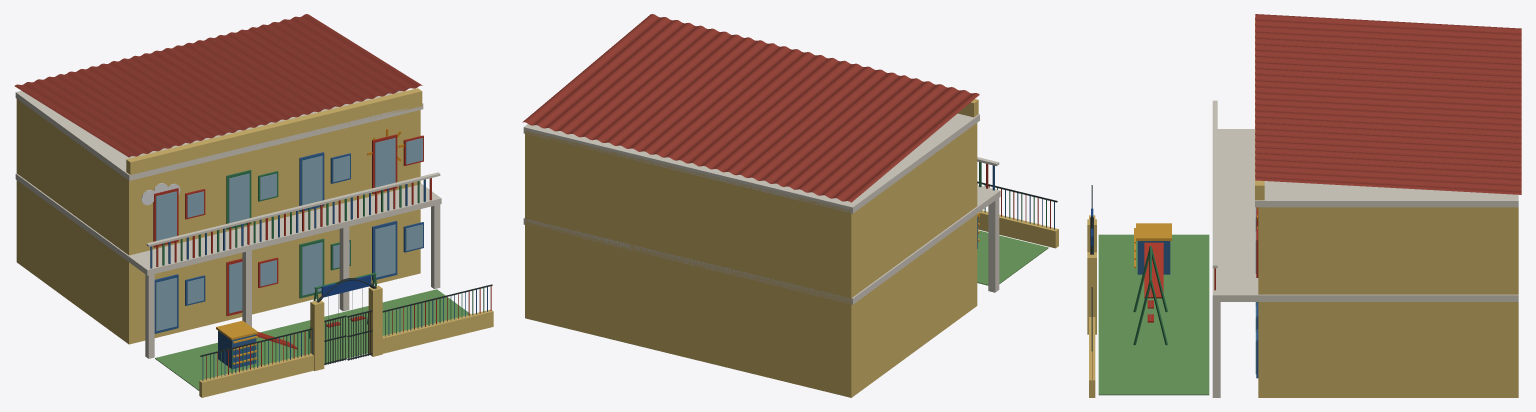
Rendered from mau_giao.glb.
3 renders of one model, left to right at view 1: azimuth 30°, elevation 25°; view 2: azimuth 150°, elevation 25°; view 3: azimuth 270°, elevation 25°, orthographic. The views are drawn at different scales.
Visible parts, largest first — view 1: mau_giao; view 2: mau_giao; view 3: mau_giao.
Part boxes in pixels (x1,y1,x2,y2): mau_giao: (14, 14, 493, 397); mau_giao: (522, 14, 1058, 397); mau_giao: (1087, 14, 1521, 397).
Size of the model in its own units: 12.15 by 7.44 by 13.34.
